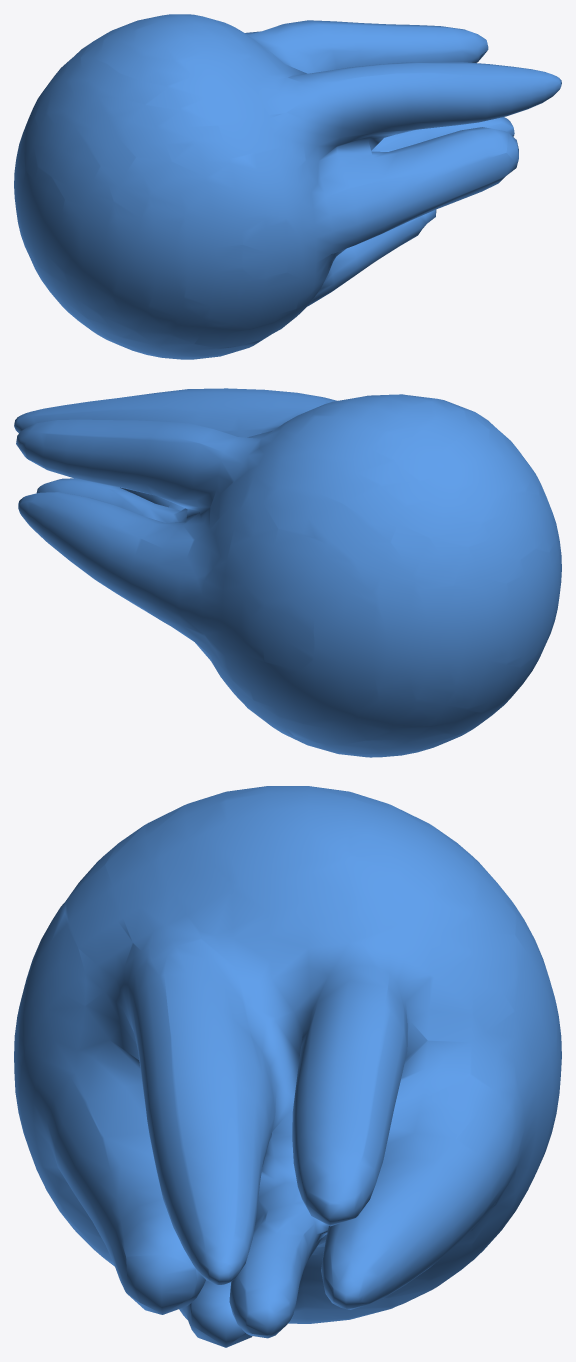
File: blob-1.fbx
3 views of the same model, one above another, from view 1: azimuth 30°, elevation 25°; view 2: azimuth 150°, elevation 25°; view 3: azimuth 270°, elevation 25° (orthographic). The views are drawn at different scales.
Parts seen in each view (by area): view 1: blob-1; view 2: blob-1; view 3: blob-1.
Boxes of the visible parts, <box> form: blob-1: <box>14,14,561,359</box>; blob-1: <box>14,388,561,757</box>; blob-1: <box>14,786,561,1347</box>.
Bounding box in the file's own units: 0.4997 × 0.2969 × 0.298.
